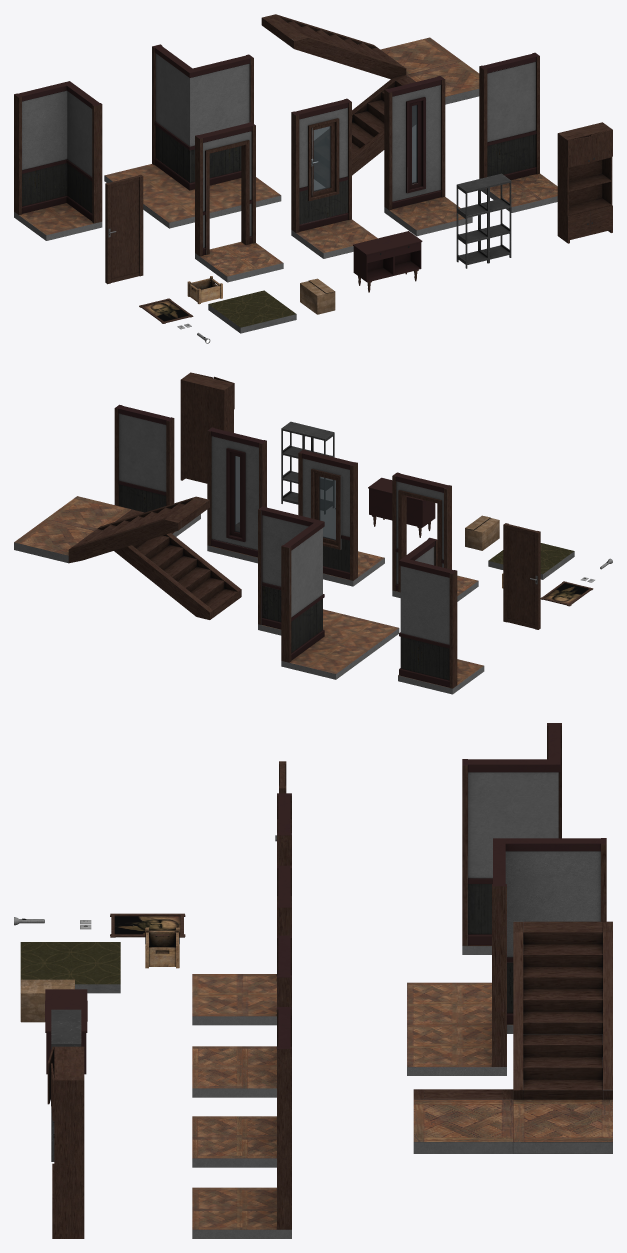
3 renders of one model, top to bottom at view 1: azimuth 30°, elevation 25°; view 2: azimuth 150°, elevation 25°; view 3: azimuth 270°, elevation 25°, orthographic. The views are drawn at different scales.
Visible parts, largest first — view 1: Wall_Corner_Invert, Wal_Corner.005, Wall_Window_Colored.003, Ladder.002, Wall_Window.002, Wall_02.037, Wall_01_Door_Hole.002, Cabinet.002, Door, Metal_Cabinet.001, CabinetShort, FloorTile (+3 smaller); view 2: Wall_Corner_Invert, Ladder.002, Wal_Corner.005, Wall_Window_Colored.003, Wall_Window.002, Wall_02.037, Cabinet.002, Wall_01_Door_Hole.002, Door, CabinetShort, Metal_Cabinet.001, FloorTile (+2 smaller); view 3: Ladder.002, Wall_Corner_Invert, Wal_Corner.005, Wall_02.037, Cabinet.002, Wall_01_Door_Hole.002, Wall_Window_Colored.003, Wall_Window.002, FloorTile, Frame, CabinetShort, CarboardBox (+2 smaller).
Part boxes in pixels (x1,y1,x2,y2): Wall_Corner_Invert: (104,44,281,228); Wal_Corner.005: (14,81,102,240); Wall_Window_Colored.003: (384,76,472,236); Ladder.002: (261,14,479,175); Wall_Window.002: (291,98,377,258); Wall_02.037: (479,52,557,212); Wall_01_Door_Hole.002: (195,122,283,282); Cabinet.002: (557,122,612,243); Door: (105,174,143,284); Metal_Cabinet.001: (456,173,511,268); CabinetShort: (353,231,422,292); FloorTile: (208,290,296,333); Wall_Corner_Invert: (258,506,399,679); Ladder.002: (14,496,241,619); Wal_Corner.005: (398,537,484,694); Wall_Window_Colored.003: (207,427,266,563); Wall_Window.002: (298,449,384,586); Wall_02.037: (114,404,200,536); Cabinet.002: (180,372,234,483); Wall_01_Door_Hole.002: (392,472,478,601); Door: (503,523,540,629); CabinetShort: (368,477,435,537); Metal_Cabinet.001: (281,421,334,504); FloorTile: (488,543,574,579); Ladder.002: (413,921,612,1153); Wall_Corner_Invert: (407,838,606,1075); Wal_Corner.005: (462,723,561,954); Wall_02.037: (192,1007,291,1238); Cabinet.002: (47,1046,84,1238); Wall_01_Door_Hole.002: (192,793,291,1025); Wall_Window_Colored.003: (192,935,291,1167); Wall_Window.002: (192,865,291,1097); FloorTile: (20,942,120,993); Frame: (110,913,185,937); CabinetShort: (45,989,87,1074); CarboardBox: (20,979,74,1022).
Size of the model in its own units: 1547 by 420 by 1201.
17 materials, 17 textured.
